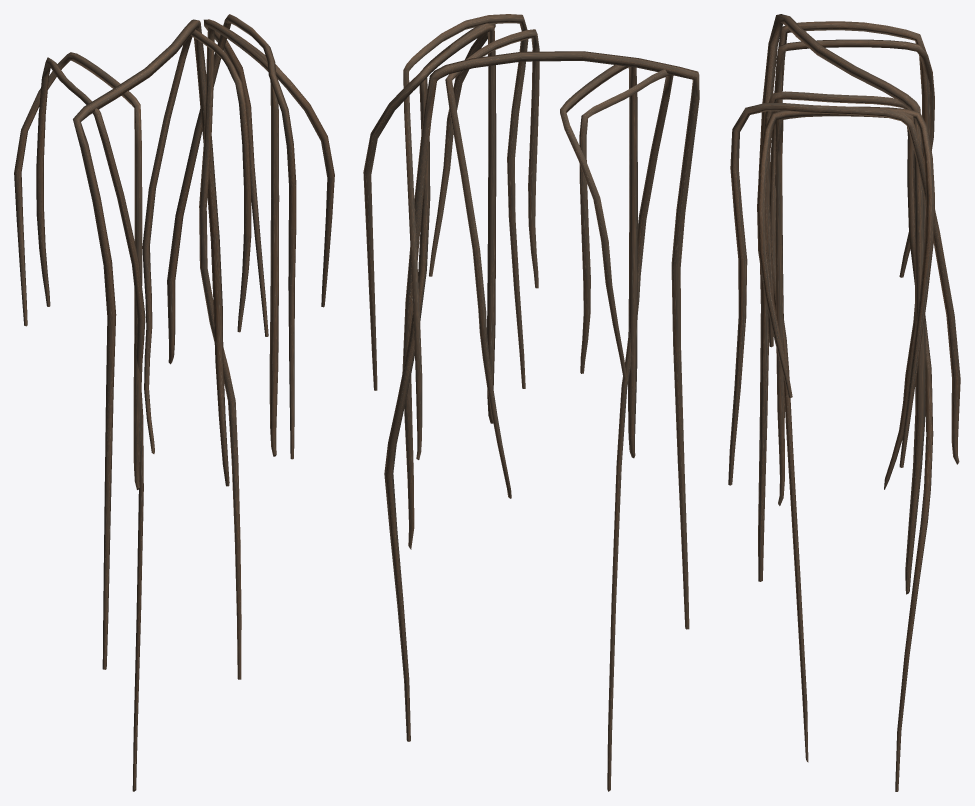
File: SM_HangingLianas_2.fbx
3 views of the same model, side by side, from view 1: azimuth 30°, elevation 25°; view 2: azimuth 150°, elevation 25°; view 3: azimuth 270°, elevation 25° (orthographic). The views are drawn at different scales.
Visible parts, largest first — view 1: SM_HangingLianas_2_LOD0; view 2: SM_HangingLianas_2_LOD0; view 3: SM_HangingLianas_2_LOD0.
Part boxes in pixels (box(x1,y1,x2,y2)): SM_HangingLianas_2_LOD0: box(14, 14, 334, 791); SM_HangingLianas_2_LOD0: box(363, 14, 699, 791); SM_HangingLianas_2_LOD0: box(728, 14, 960, 791).
Size of the model in its own units: 45.39 by 35.05 by 121.
